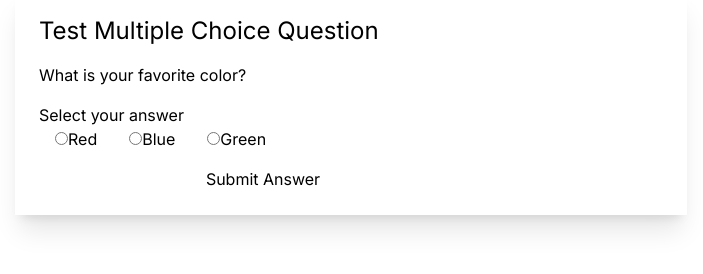
Multiple Choice Question Fix › shows validation error when no option is selected
Expected: the heading "Test Multiple Choice Question" is shown, [39,16,379,45]
Click the button "Submit Answer": coordinates (263, 179) [39,167,487,191]
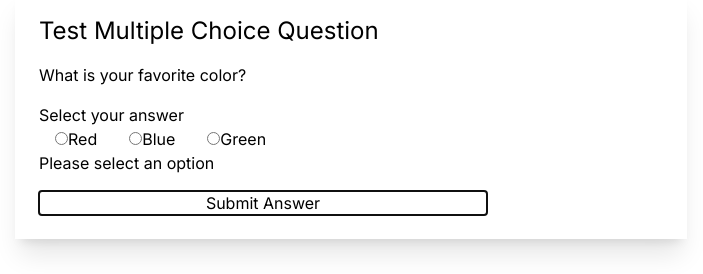
Expected: the text "Please select an option" is shown, [39,153,214,173]
